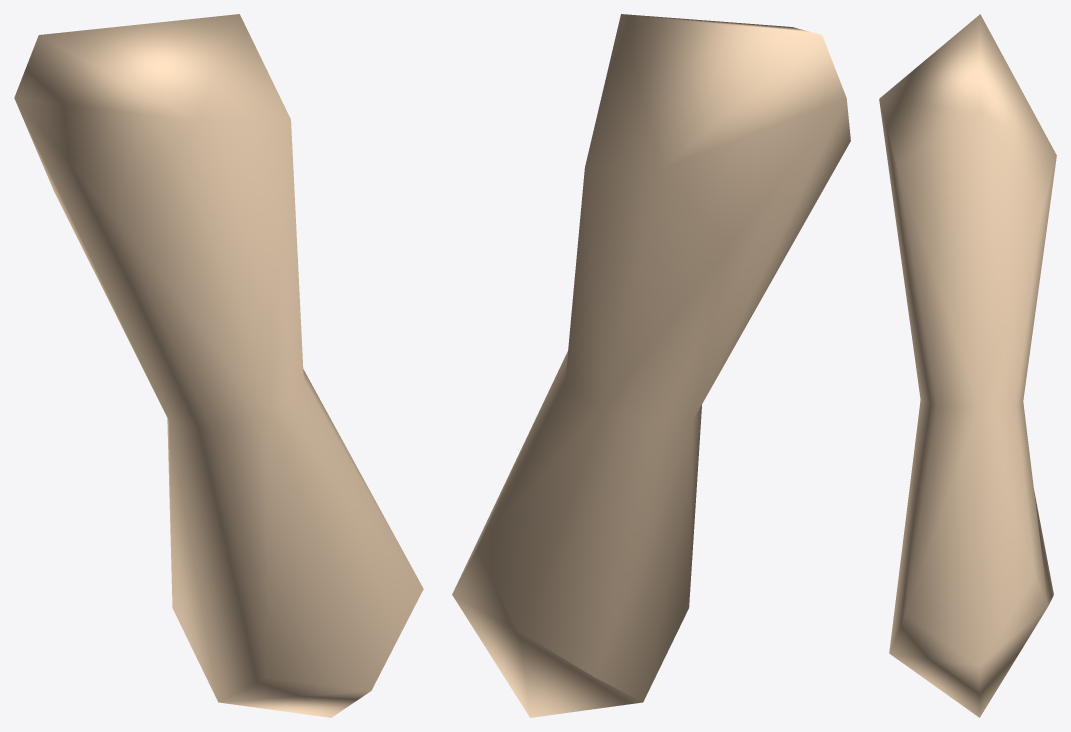
File: TtianglePlayerLeftArm.obj
3 renders of one model, left to right at view 1: azimuth 30°, elevation 25°; view 2: azimuth 150°, elevation 25°; view 3: azimuth 270°, elevation 25°, orthographic. The views are drawn at different scales.
Visible parts, largest first — view 1: 左腕; view 2: 左腕; view 3: 左腕.
Boxes of the visible parts, x1,y1,x2,y2 form: 左腕: (14, 14, 423, 717); 左腕: (452, 14, 850, 717); 左腕: (879, 14, 1056, 717).
Bounding box in the file's own units: 0.2944 × 0.5373 × 0.1463.
1 material, 1 textured.
